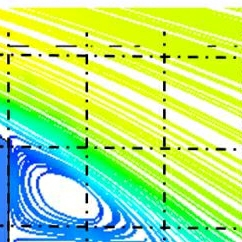vortox: (10, 145, 139, 242)
